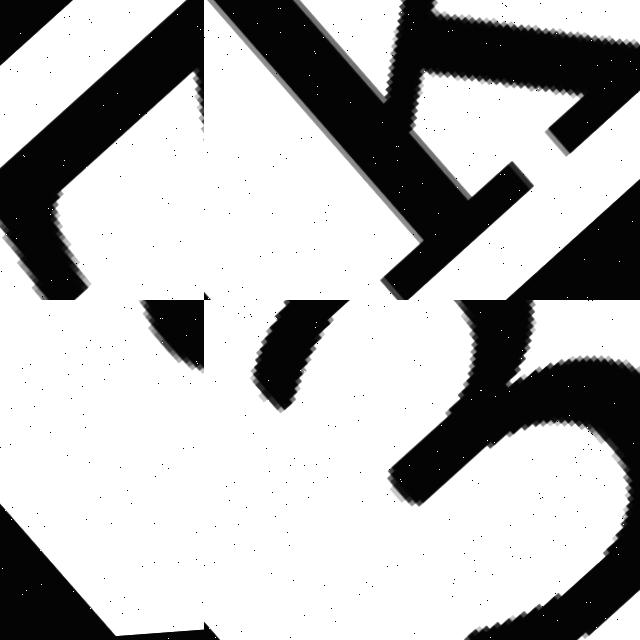3: (204, 300, 640, 640)
7: (0, 0, 204, 300)
K: (204, 0, 640, 300)
S: (0, 300, 204, 640)
